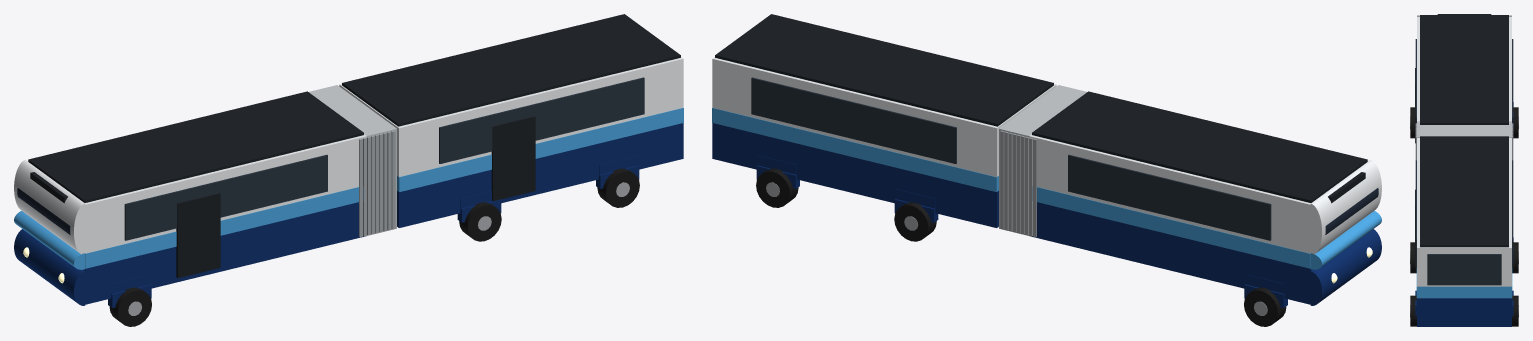
The model's file is articulado-azul.glb.
3 renders of one model, left to right at view 1: azimuth 30°, elevation 25°; view 2: azimuth 150°, elevation 25°; view 3: azimuth 270°, elevation 25°, orthographic. The views are drawn at different scales.
Bounding box in the file's own units: 15.13 × 3.11 × 2.93.
